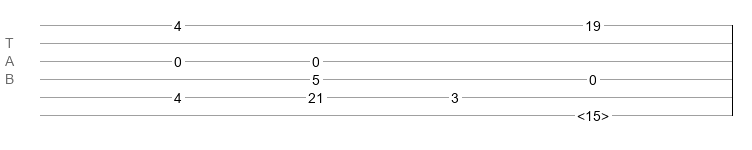0: (174, 54, 182, 64), (312, 54, 320, 64), (589, 72, 597, 82)
19: (585, 18, 601, 28)
21: (308, 90, 324, 100)
3: (451, 90, 459, 100)
4: (174, 18, 182, 28), (174, 90, 182, 100)
5: (312, 72, 320, 82)
harmonic: (577, 108, 609, 118)
